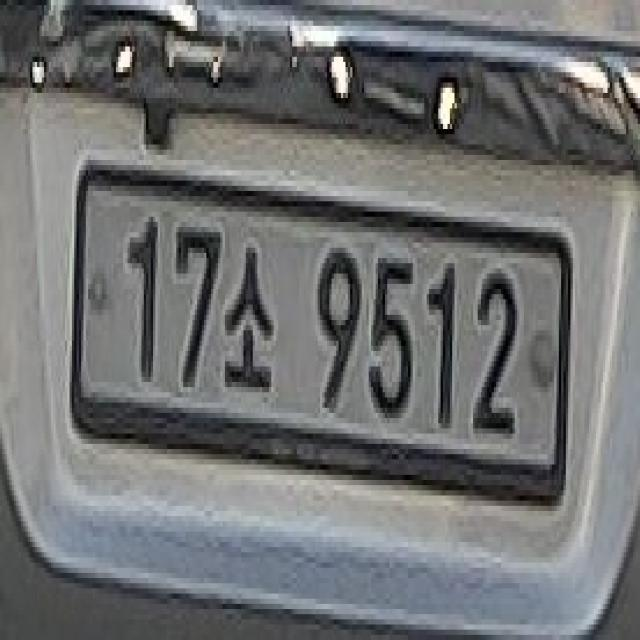1: (120, 202, 164, 398), (422, 253, 461, 439)
2: (464, 253, 522, 449)
5: (364, 237, 417, 428)
7: (169, 196, 223, 403)
9: (313, 237, 364, 428)
license_plate: (65, 150, 575, 511)
so: (225, 232, 278, 403)
